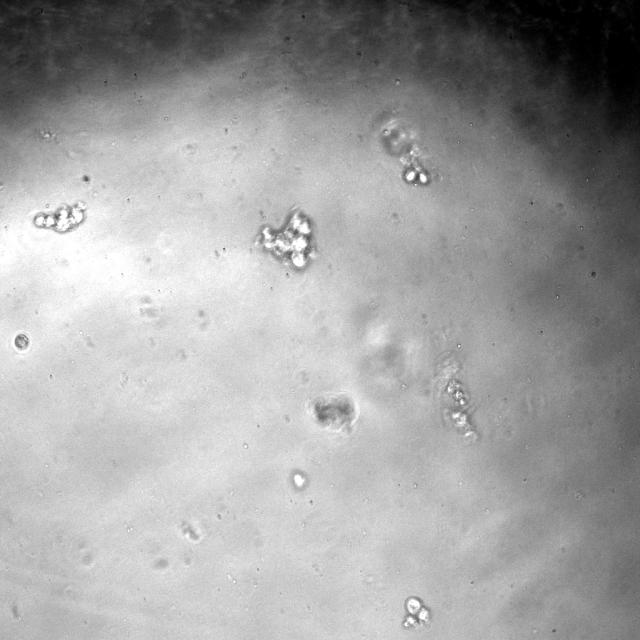organoid: (377, 115, 432, 185), (256, 208, 314, 268), (306, 391, 359, 436), (33, 201, 86, 233), (447, 379, 472, 433), (402, 597, 430, 627), (12, 333, 29, 349)
